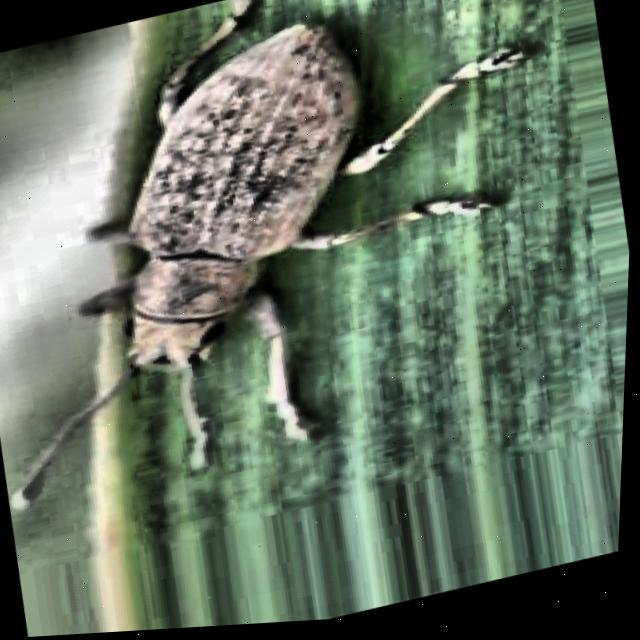Stink bug: (12, 0, 506, 492)
